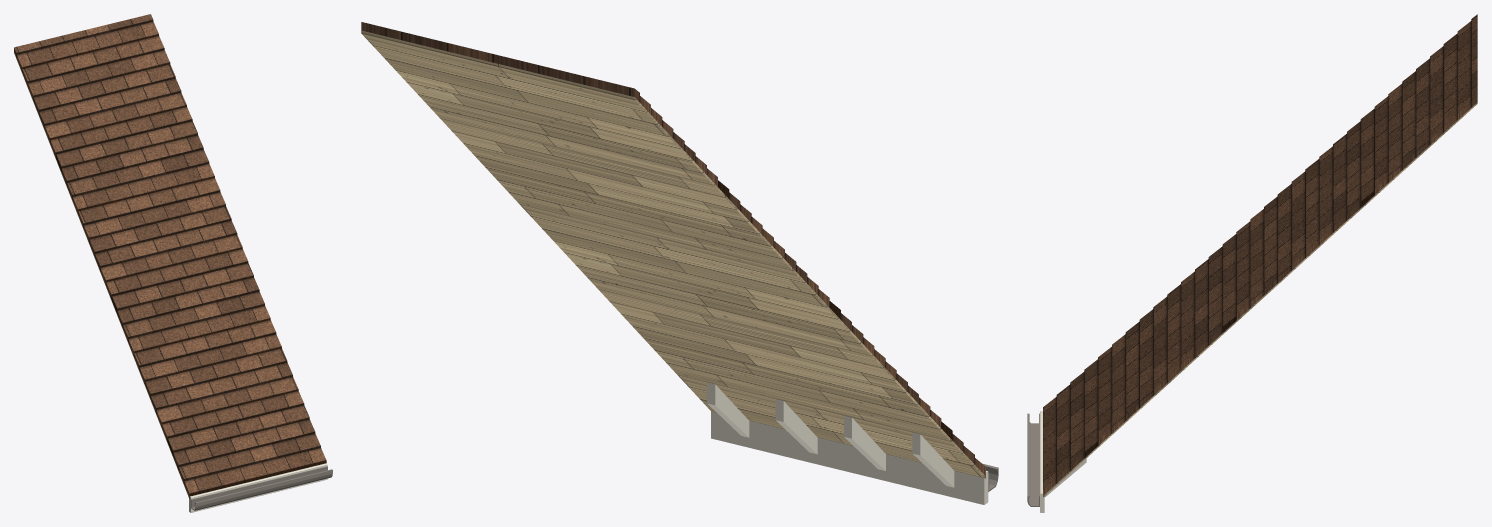
The model's file is roof_eave.glb.
The picture shows the model from 3 angles, left to right: view 1: azimuth 30°, elevation 25°; view 2: azimuth 150°, elevation 25°; view 3: azimuth 270°, elevation 25°; orthographic projection. The views are drawn at different scales.
Parts seen in each view (by area): view 1: roof_eave_shingles, roof_eave_gutter, roof_eave_trim, roof_eave_ceil; view 2: roof_eave_ceil, roof_eave_trim, roof_eave_shingles; view 3: roof_eave_shingles, roof_eave_gutter, roof_eave_ceil.
Part boxes in pixels (x1,y1,x2,y2): roof_eave_shingles: (14,14,326,498); roof_eave_gutter: (191,466,332,510); roof_eave_trim: (189,463,327,512); roof_eave_ceil: (14,52,189,499); roof_eave_ceil: (361,30,985,479); roof_eave_trim: (707,382,988,504); roof_eave_shingles: (361,22,985,476); roof_eave_shingles: (1043,14,1477,495); roof_eave_gutter: (1027,413,1039,506); roof_eave_ceil: (1043,102,1477,497).
Bounding box in the file's own units: 2 × 4.7 × 4.61.
Materials: 4 (2 with a texture image).
